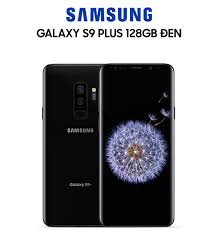samsung: (87, 61, 167, 228), (41, 60, 98, 231)
